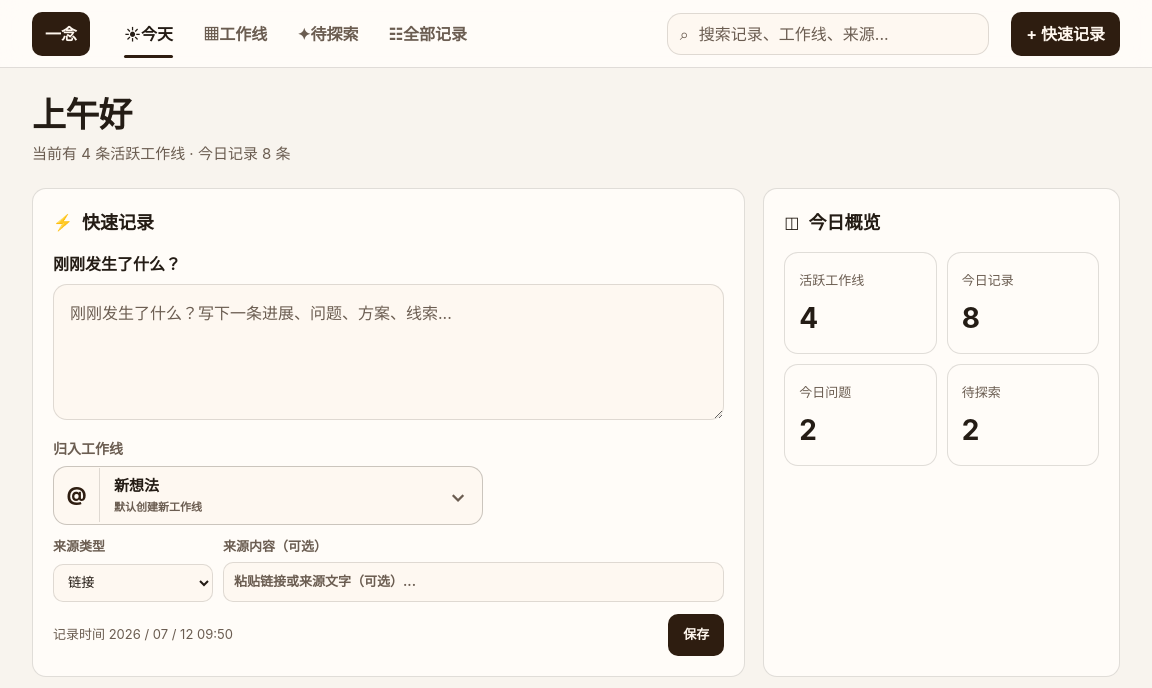
Test case: Yinian six-page product shell › saves a comment on an existing workline idea
Expected: the heading "上午好" is shown, [32,94,132,135]
Click the button "▦工作线" at [235, 34], box [191,10,279,58]
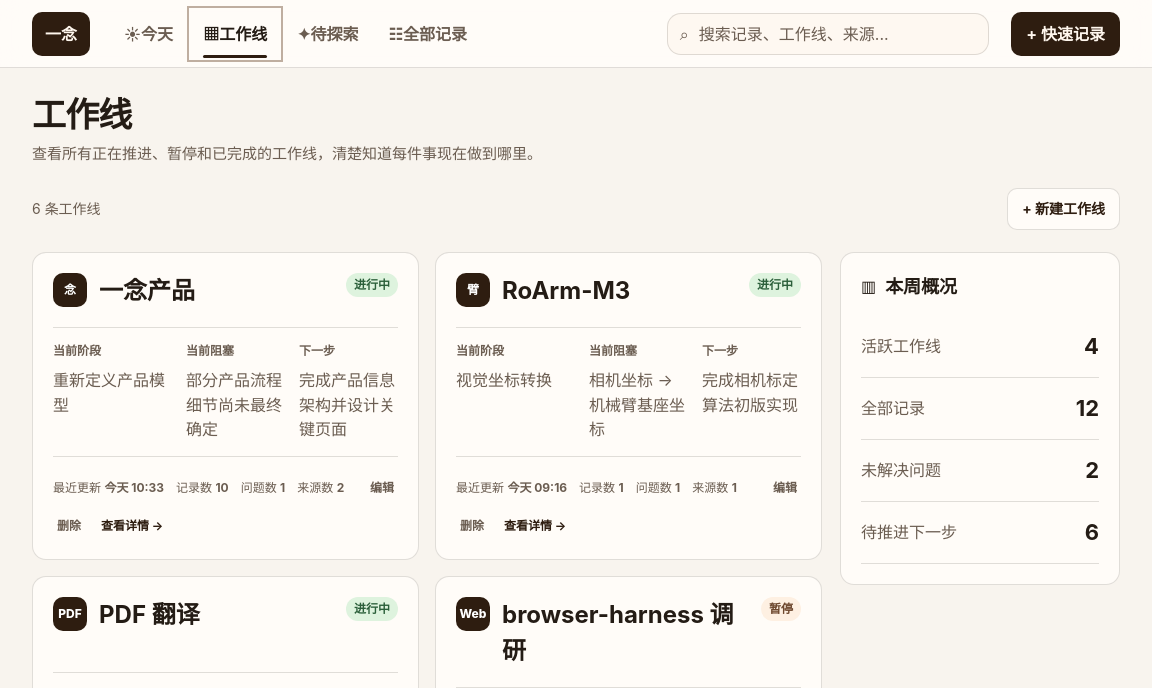
Click the button with aria-label "查看一念产品详情" at [132, 526], box [97,513,167,539]
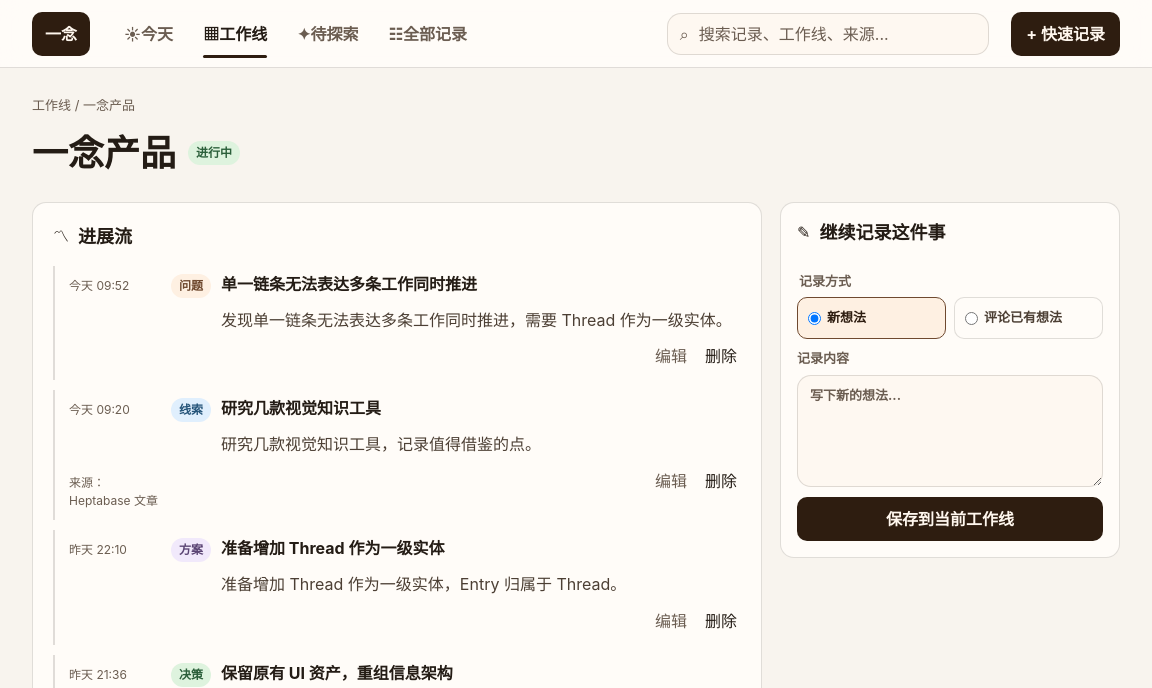
Click the radio button labelled "评论已有想法" at [972, 318], box [965,312,978,324]
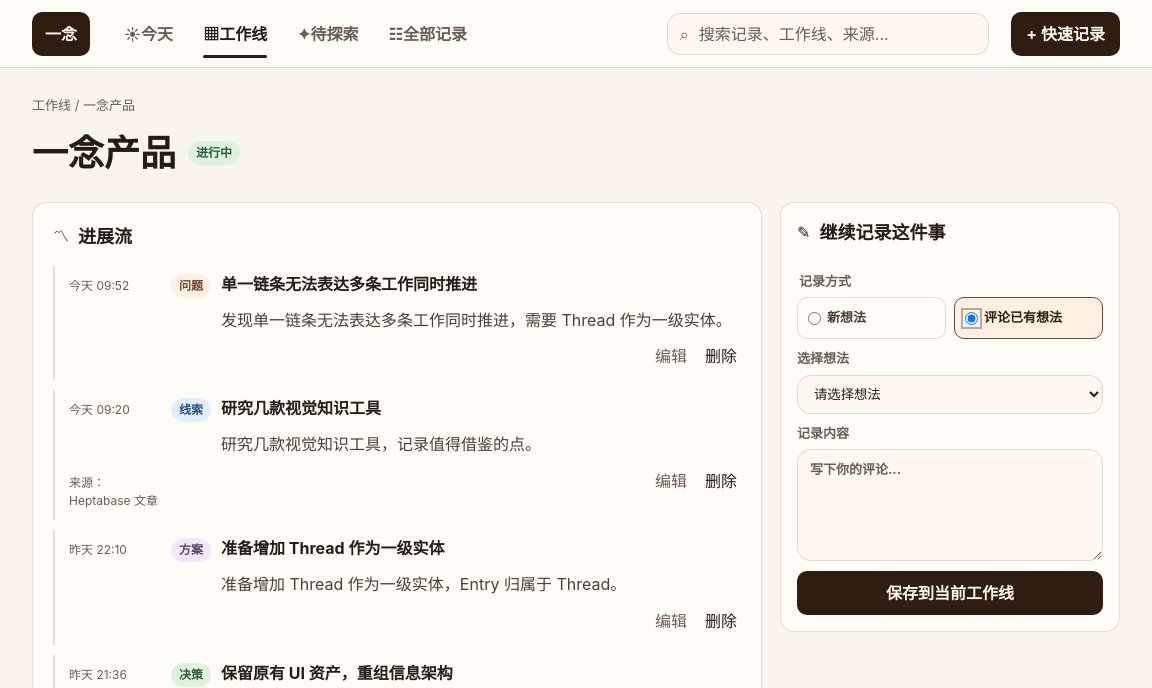
Select "后续可以基于引用添加想法链条" in the dropdown labelled "选择想法" at [950, 394], box [797,374,1103,414]
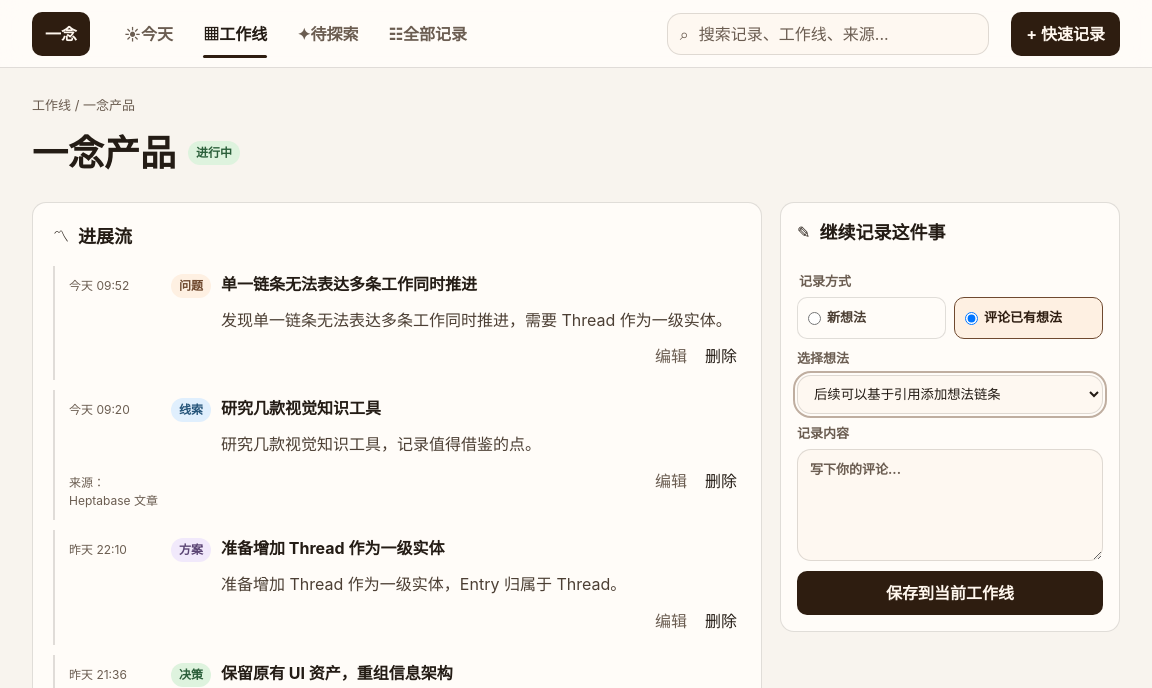
Type "这是对已有想法的评论。" into the text box labelled "记录内容" at [950, 505], box [797,449,1103,561]
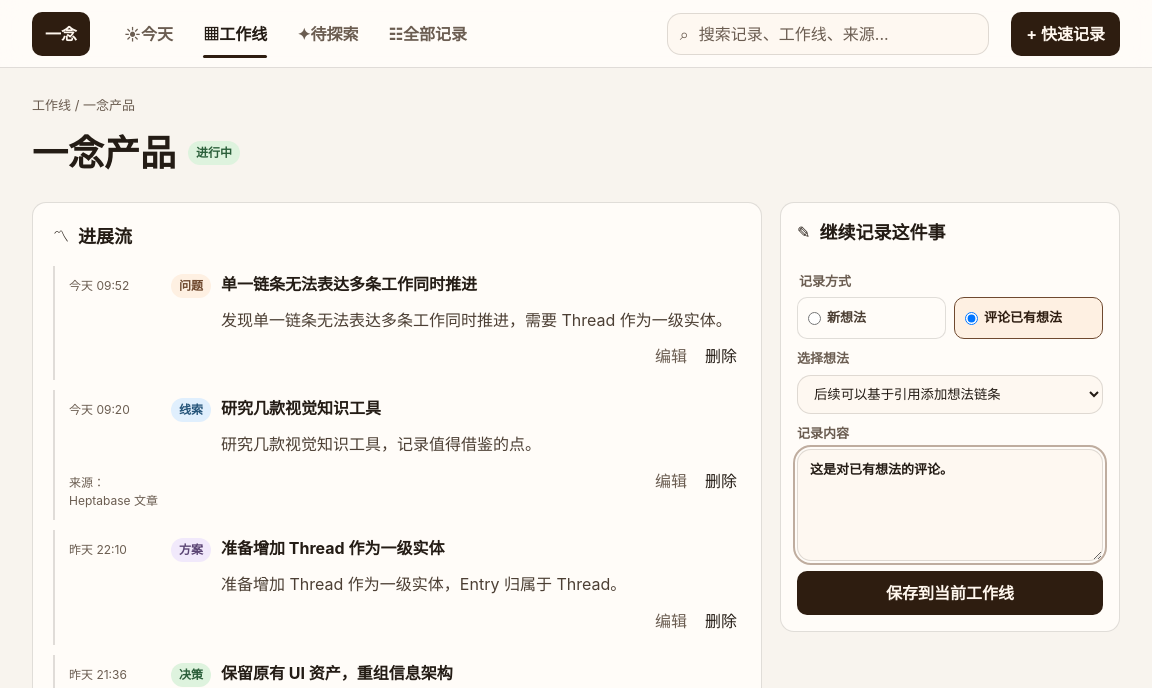
Click the button "保存到当前工作线" at [950, 593], box [797,571,1103,615]
(page scrolled)
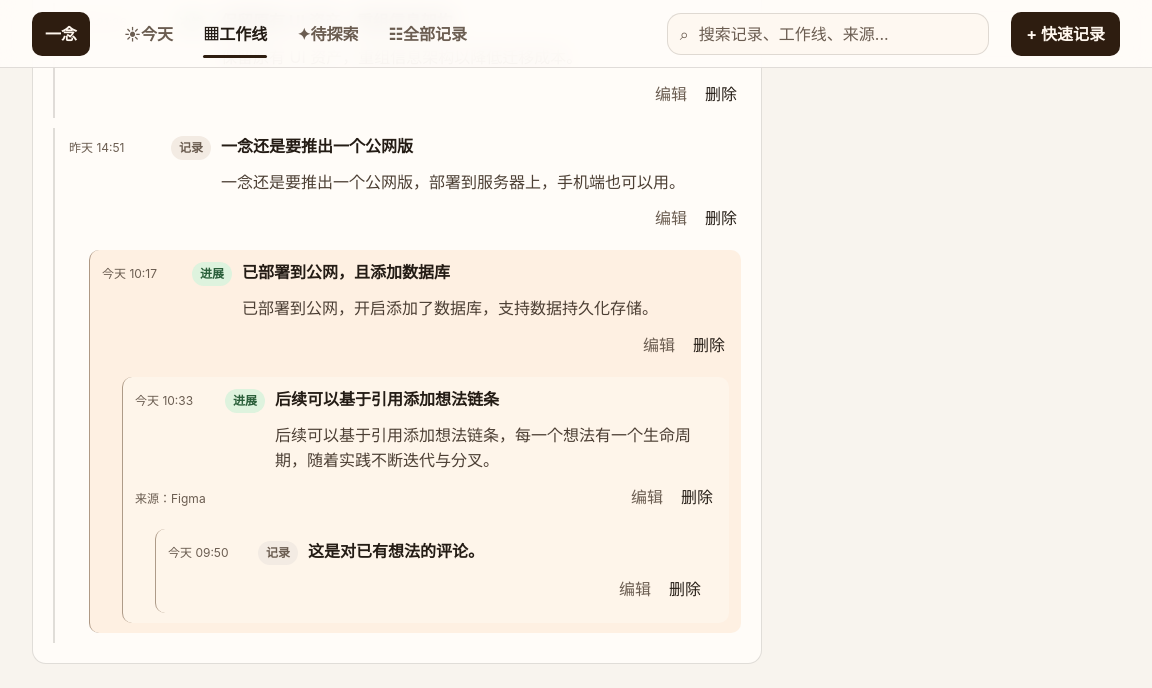
Expected: the text "这是对已有想法的评论。" is shown, [308,541,484,561]
